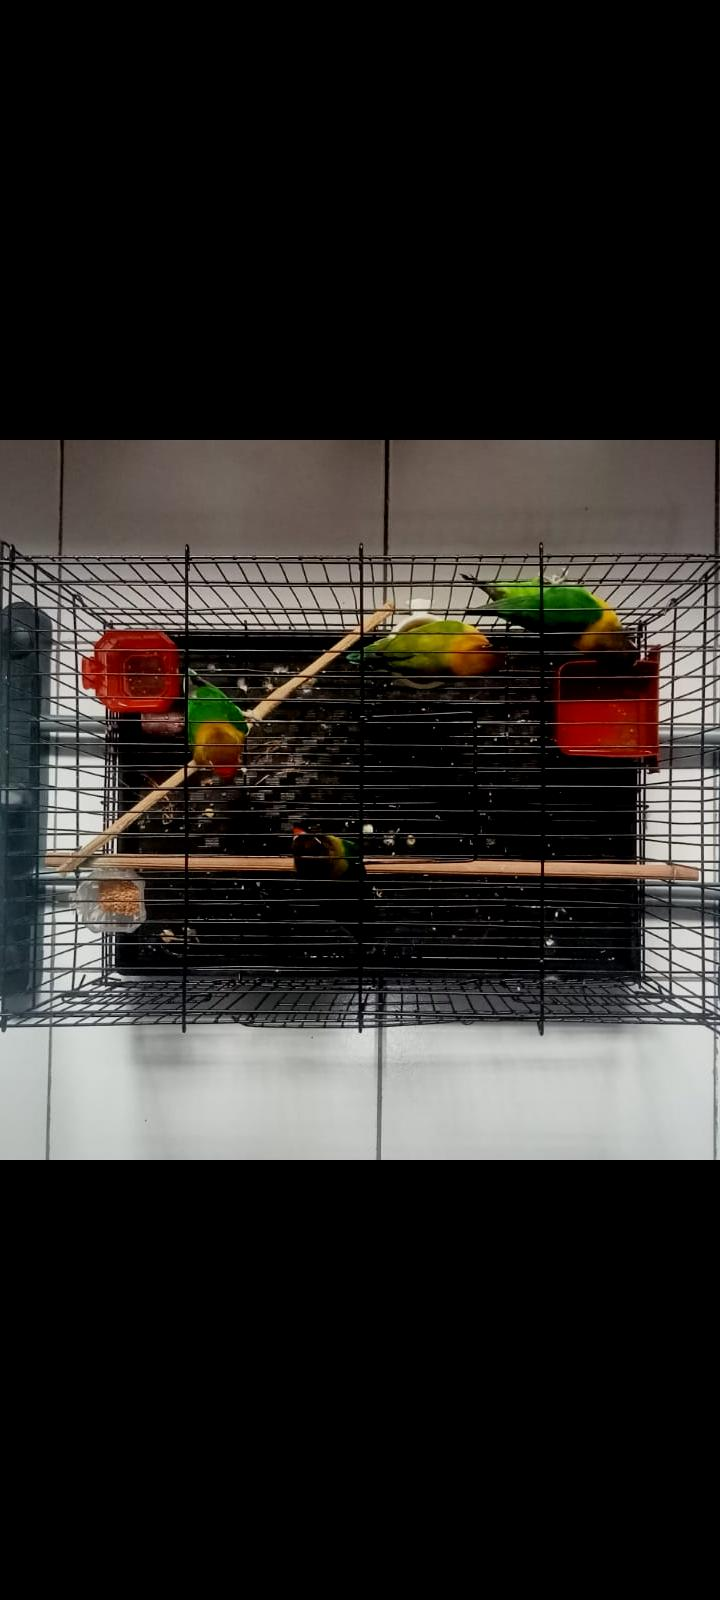LoveBird: (462, 573, 634, 668), (292, 824, 374, 953), (346, 619, 508, 681), (182, 668, 246, 782)
